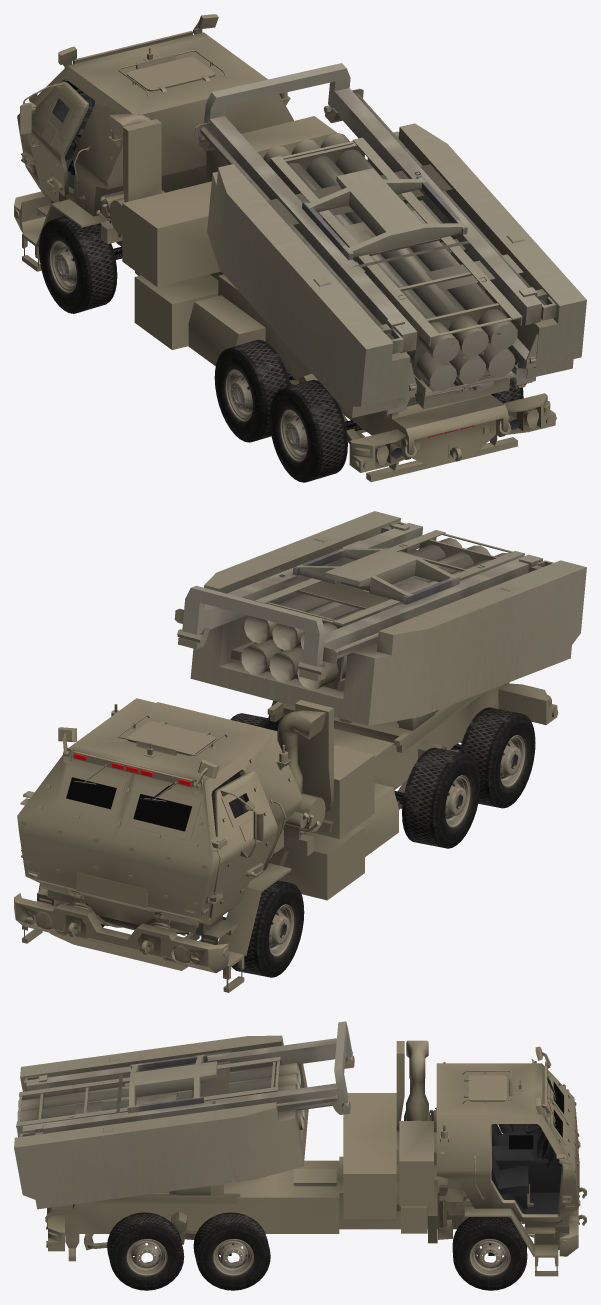
File: l_himars.glb
The picture shows the model from 3 angles, top to bottom: view 1: azimuth 30°, elevation 25°; view 2: azimuth 150°, elevation 25°; view 3: azimuth 270°, elevation 25°; orthographic projection. The views are drawn at different scales.
Parts seen in each view (by area): view 1: pod|material_3, body|Material_147, body|Default, body|material_3, body|Material_148; view 2: body|Material_147, pod|material_3, body|Default, body|material_3, body|03_-_Default; view 3: body|Material_147, pod|material_3, body|Default, body|Material_148, body|material_3, body|03_-_Default.
Part boxes in pixels (x1,y1,x2,y2): pod|material_3: (194, 63, 586, 417); body|Material_147: (14, 14, 556, 482); body|Default: (39, 216, 523, 482); body|material_3: (50, 241, 307, 461); body|Material_148: (52, 80, 519, 458); body|Material_147: (14, 678, 558, 992); pod|material_3: (174, 511, 586, 725); body|Default: (38, 700, 535, 977); body|material_3: (268, 735, 525, 956); body|03_-_Default: (66, 777, 191, 831); body|Material_147: (45, 1040, 586, 1276); pod|material_3: (14, 1021, 354, 1209); body|Default: (107, 1212, 527, 1290); body|Material_148: (491, 1076, 562, 1214); body|material_3: (126, 1239, 510, 1275); body|03_-_Default: (509, 1081, 563, 1149).
Size of the model in its own units: 2.79 by 3.09 by 7.6.
Materials: 10 (4 with a texture image).
